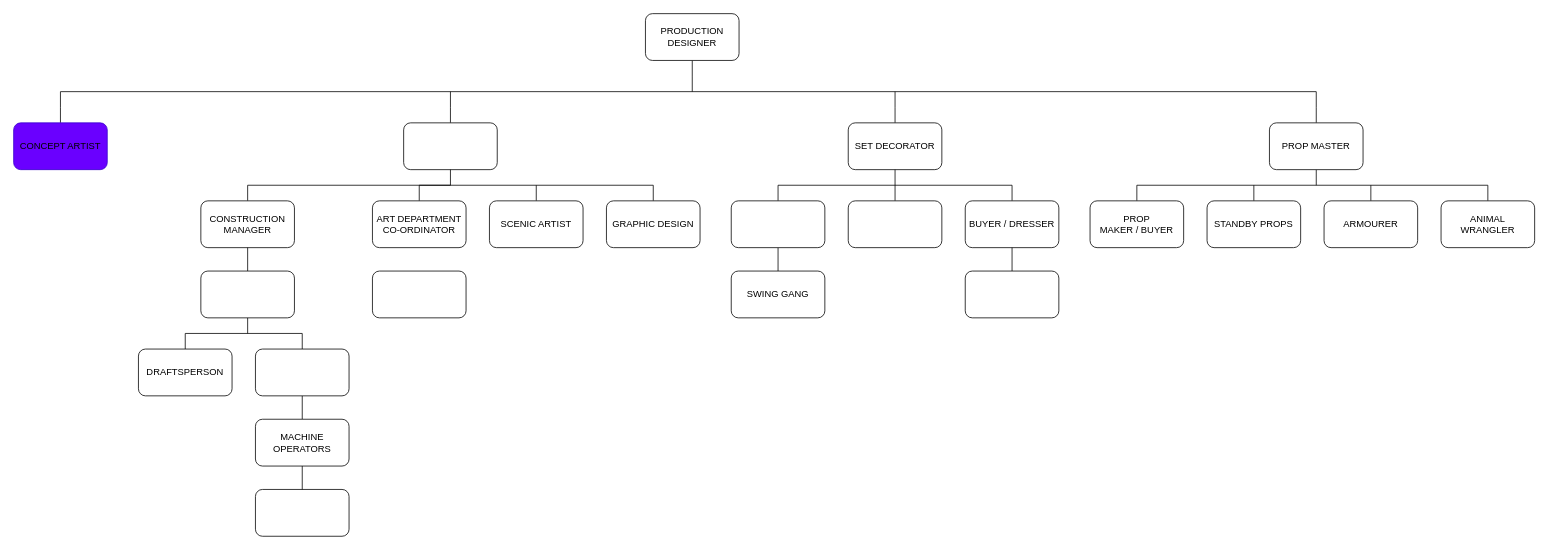
This 1548x550 diagram has some shape labels left out. Each missing label, with the box of its shape:
ART DIRECTOR: (403, 122, 497, 170)
CARPENTER: (255, 348, 349, 396)
CONSTRUCTION BUYER: (372, 270, 466, 318)
CONSTRUCTION FOREMAN: (200, 270, 294, 318)
GREENS PERSON: (847, 200, 942, 248)
LEAD SWING: (730, 200, 825, 248)
SET BUILDER: (255, 489, 349, 536)
STANDBY DRESSER: (964, 270, 1059, 318)
